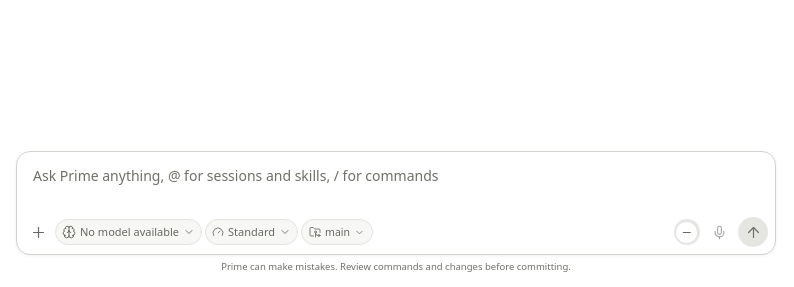
Test: composer worktree picker › shows the active branch and switches to another worktree
This screenshot has width=794, height=287.
Click the button with aria-label "Checkout: main". click: (337, 232)
box: [301,219,373,245]
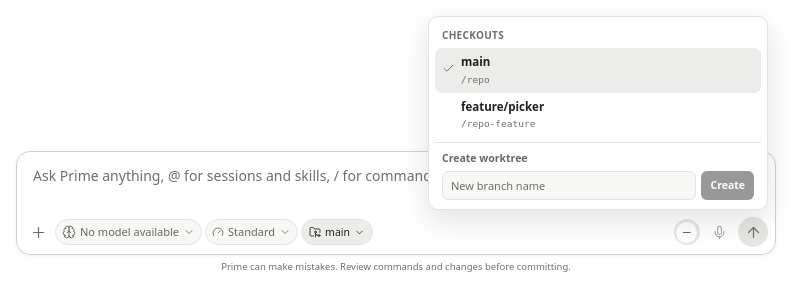
Expected: the number of menu items is 2
Expected: the menu item "feature/picker /repo-feature" is shown
Click the menu item "feature/picker /repo-feature". click: (503, 106)
box: [435,93,761,137]
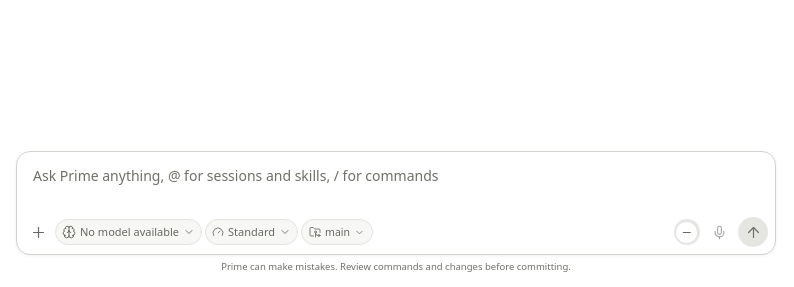
Expected: the menu is gone
